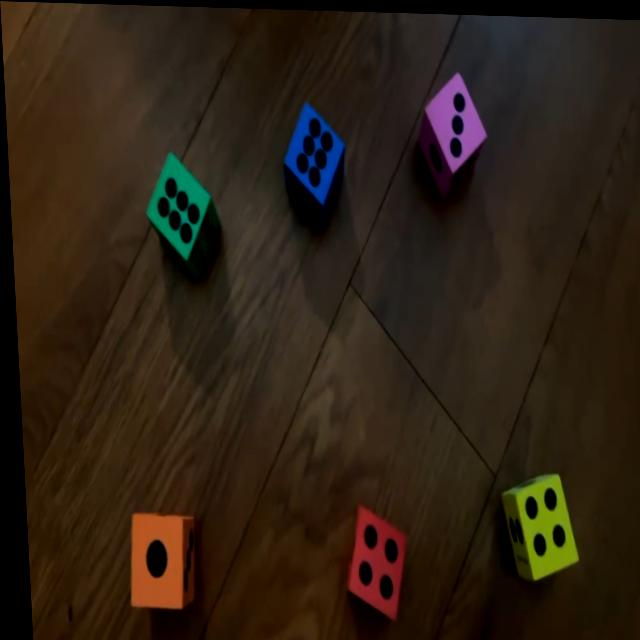cube: (141, 148, 219, 276), (278, 97, 346, 224), (335, 502, 402, 615)
